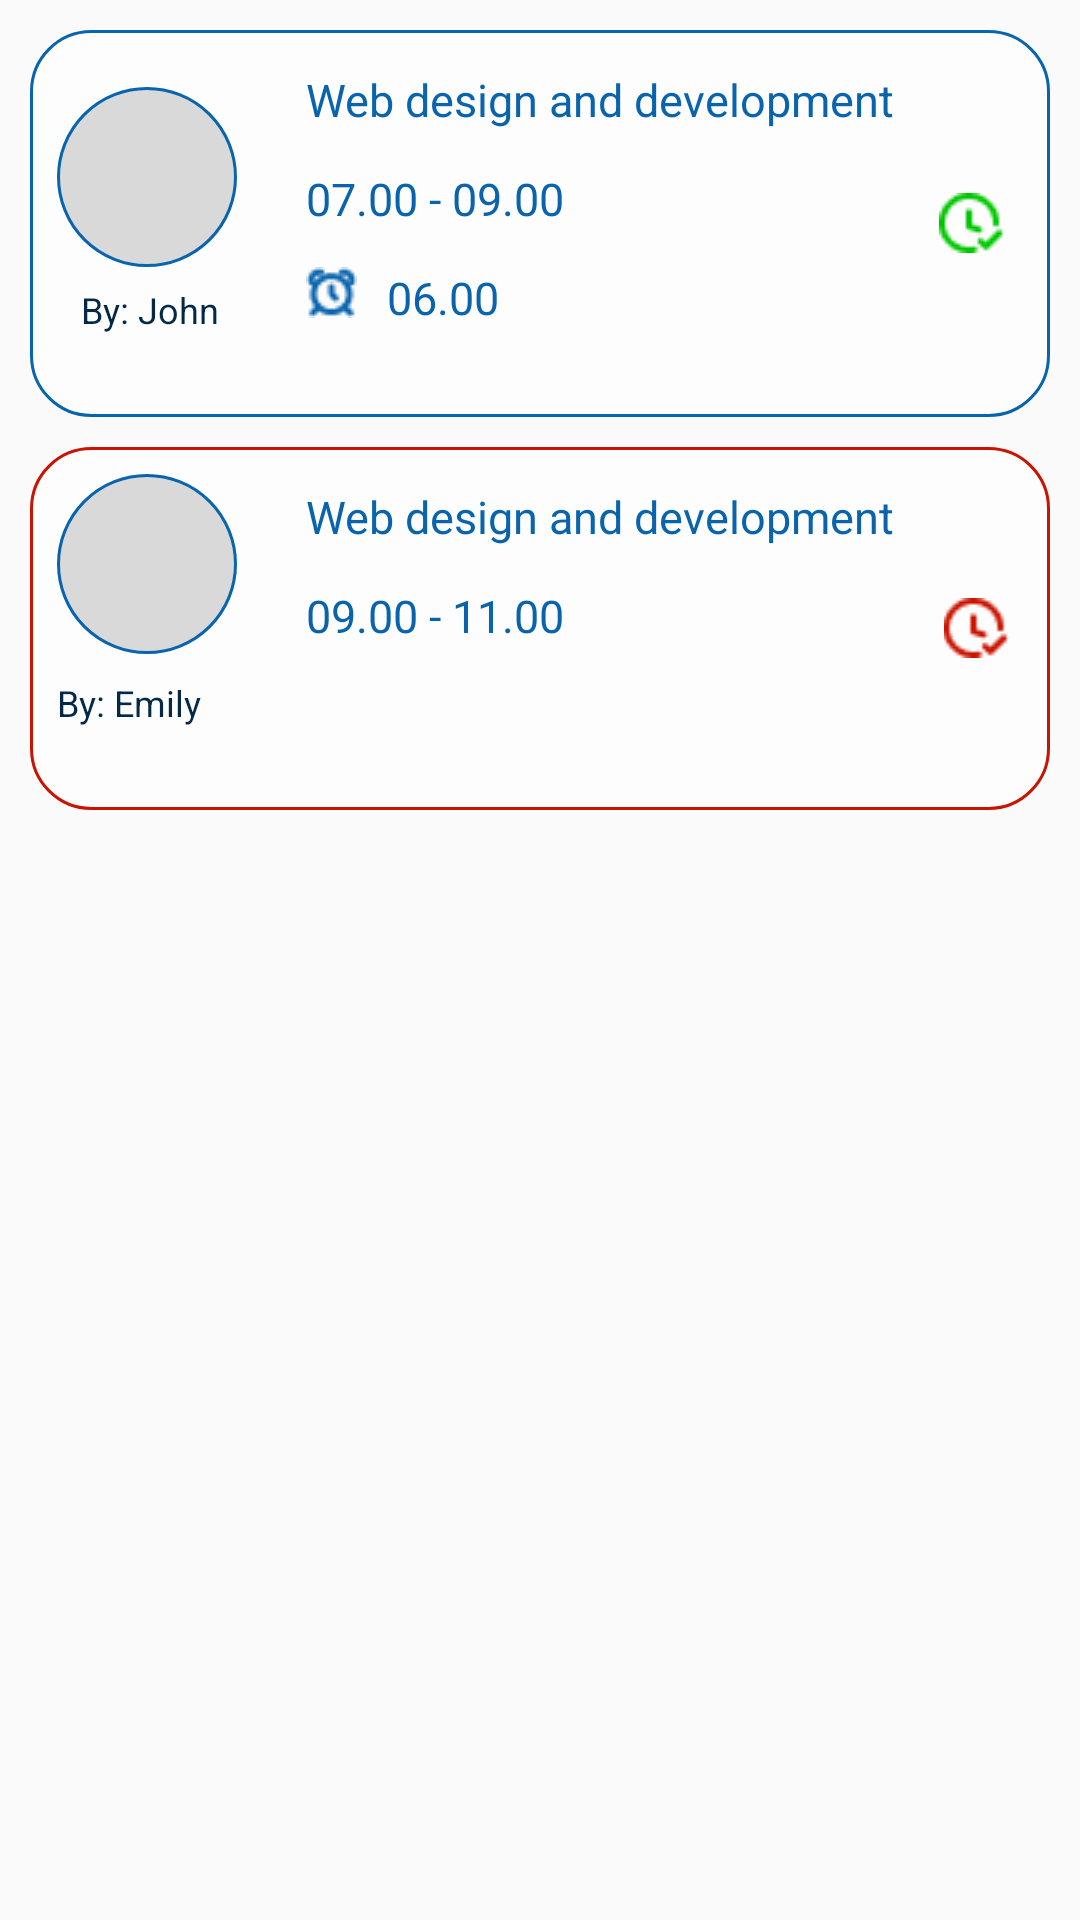

Named icons in this screenshot (1080×1920) and their centers, point (x, y):
alarm: point (331, 292)
alarm check: point (971, 223), point (976, 628)
